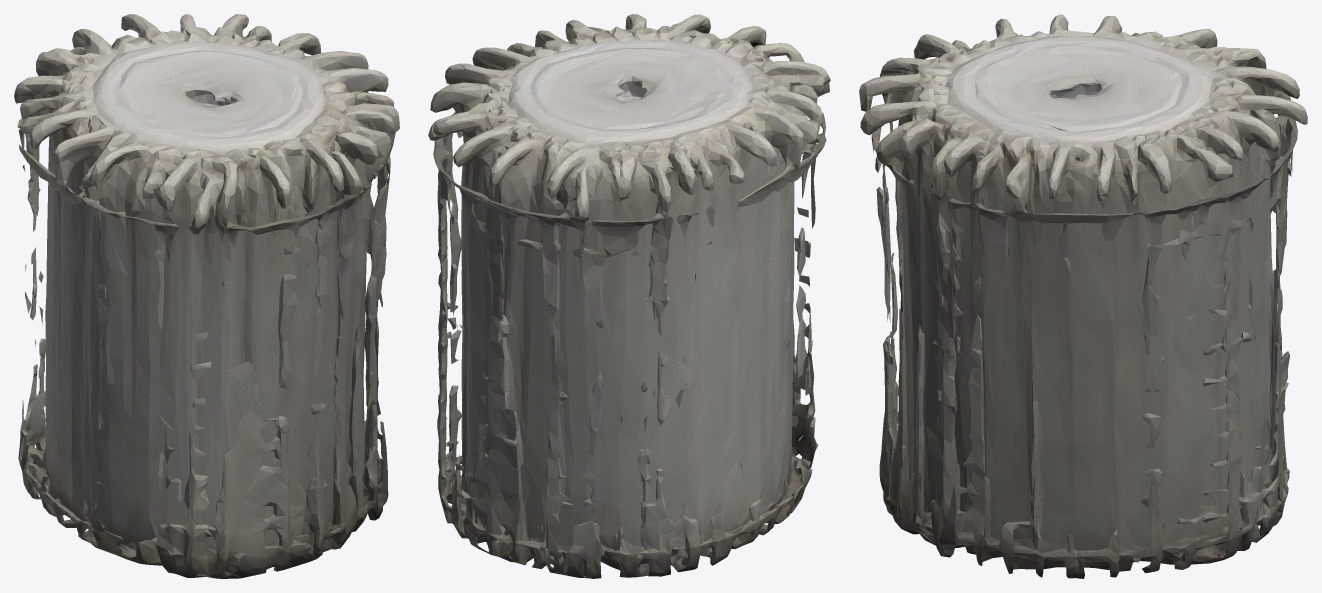
Rendered from grey_woven_basket_000.glb.
3 views of the same model, side by side, from view 1: azimuth 30°, elevation 25°; view 2: azimuth 150°, elevation 25°; view 3: azimuth 270°, elevation 25° (orthographic). The views are drawn at different scales.
Visible parts, largest first — view 1: phase2_final_grey_woven_basket_000.obj; view 2: phase2_final_grey_woven_basket_000.obj; view 3: phase2_final_grey_woven_basket_000.obj.
Part boxes in pixels (x1,y1,x2,y2): phase2_final_grey_woven_basket_000.obj: (14,14,399,578); phase2_final_grey_woven_basket_000.obj: (428,14,830,578); phase2_final_grey_woven_basket_000.obj: (859,14,1307,578).
Size of the model in its own units: 0.206 by 0.2444 by 0.2318.
1 material, 1 textured.
